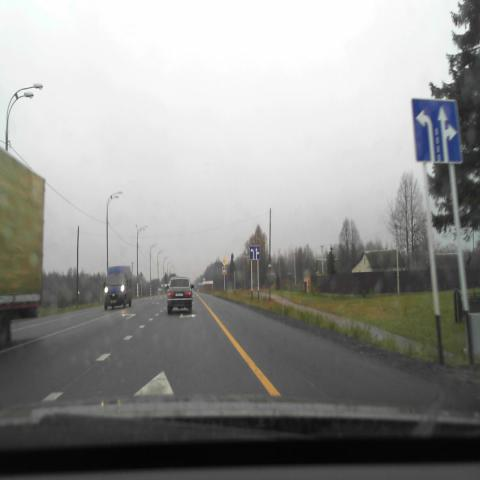5_15_2_2: (412, 100, 463, 163)
